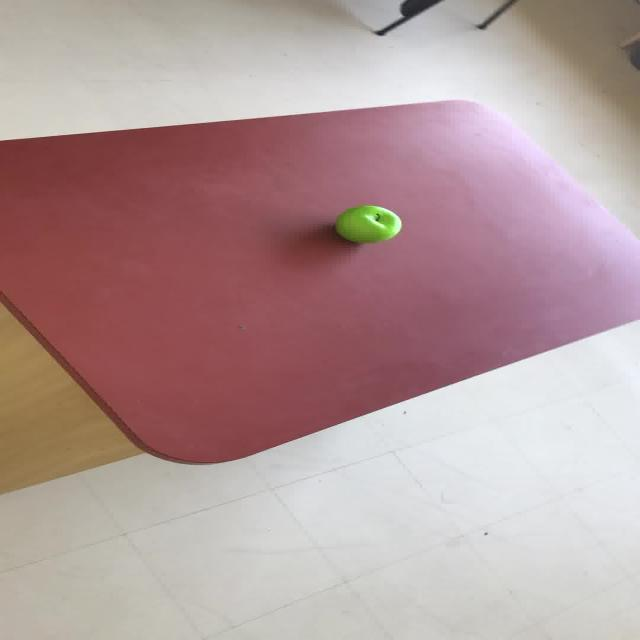apple: (334, 204, 402, 243)
